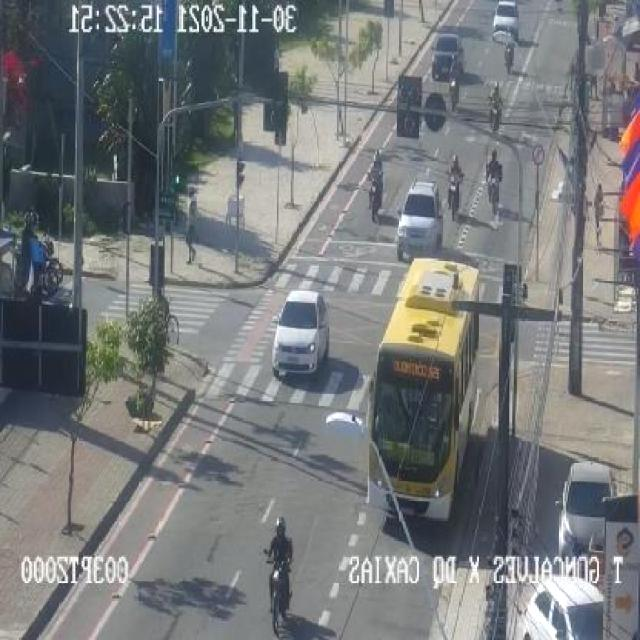Bus: (356, 253, 496, 530)
Car: (258, 279, 336, 387), (544, 458, 622, 563), (524, 575, 604, 640), (396, 178, 444, 259), (429, 29, 464, 85), (493, 1, 524, 38)
Cycle: (7, 207, 79, 301), (247, 516, 303, 632), (352, 156, 402, 226), (474, 154, 508, 220), (436, 154, 464, 220), (481, 83, 509, 133), (498, 34, 521, 80), (444, 68, 464, 114)
